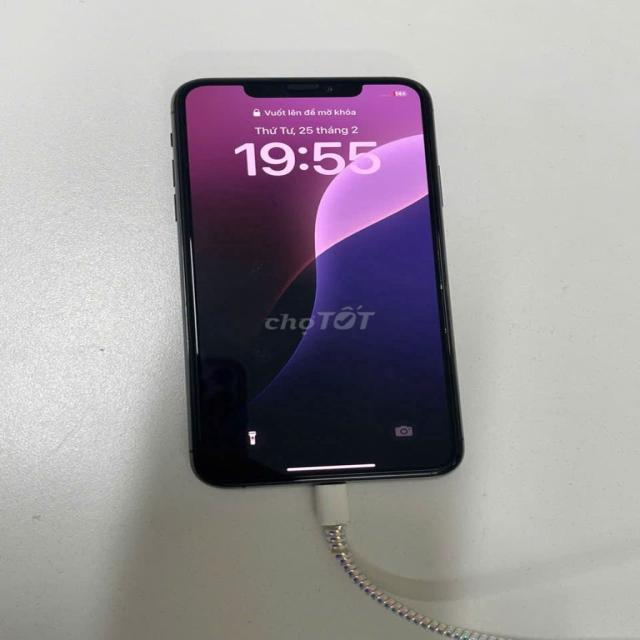scratch: (212, 241, 286, 283)
